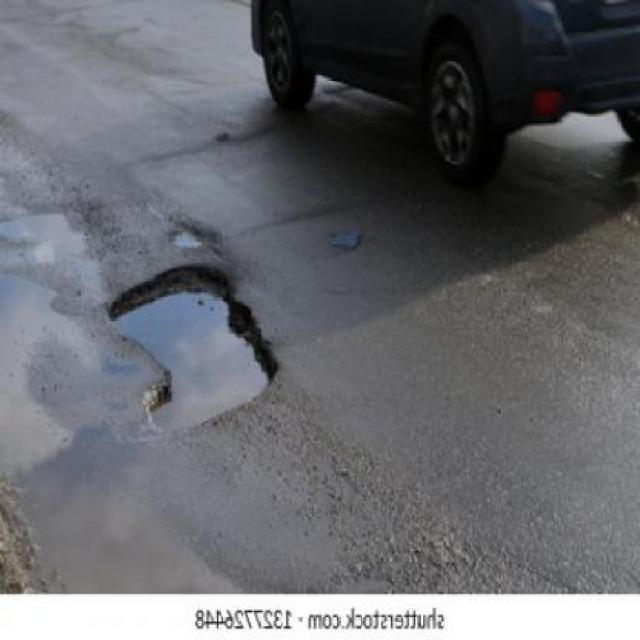Pothole: (109, 265, 278, 431)
